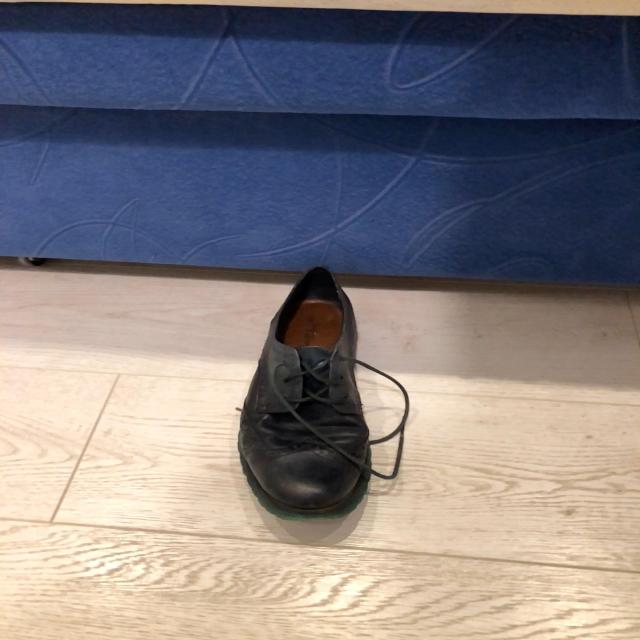shoe: (237, 268, 372, 520)
